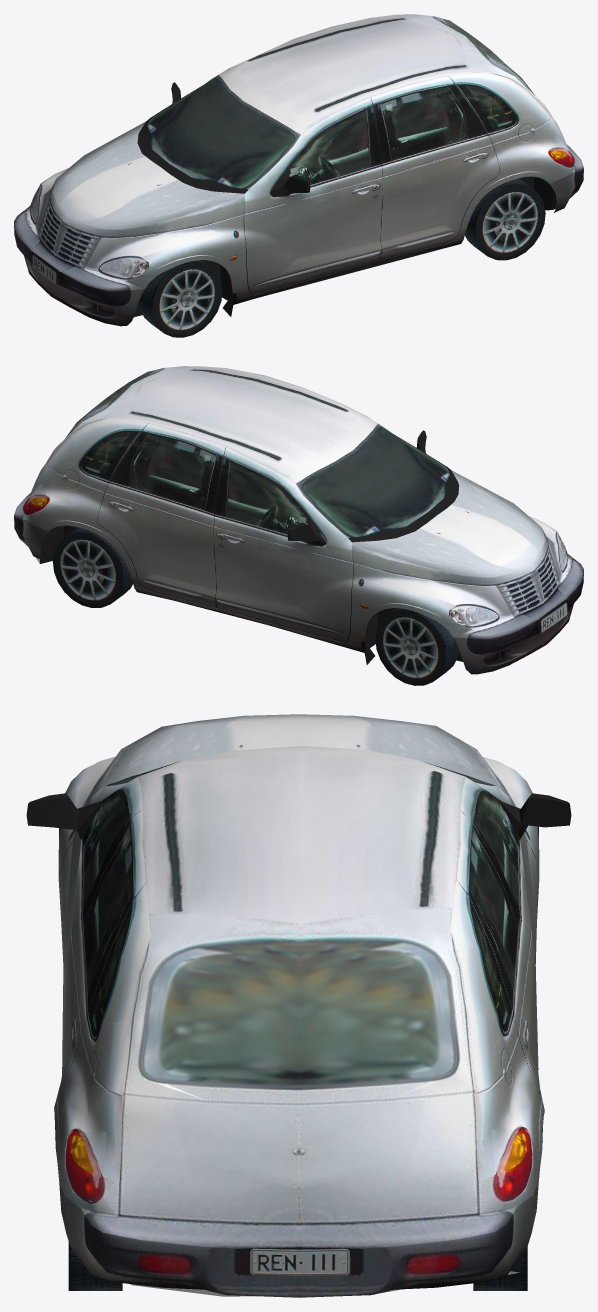
Rendered from Low poly Car-8.FBX.
The picture shows the model from 3 angles, top to bottom: view 1: azimuth 30°, elevation 25°; view 2: azimuth 150°, elevation 25°; view 3: azimuth 270°, elevation 25°; orthographic projection. The views are drawn at different scales.
Parts seen in each view (by area): view 1: 25Car; view 2: 25Car; view 3: 25Car.
Part boxes in pixels (left/top/right/bottom): 25Car: left=14, top=14, right=583, bottom=337; 25Car: left=14, top=366, right=583, bottom=685; 25Car: left=26, top=714, right=571, bottom=1297.
Size of the model in its own units: 4.69 by 1.62 by 2.19.
17 materials, 16 textured.
